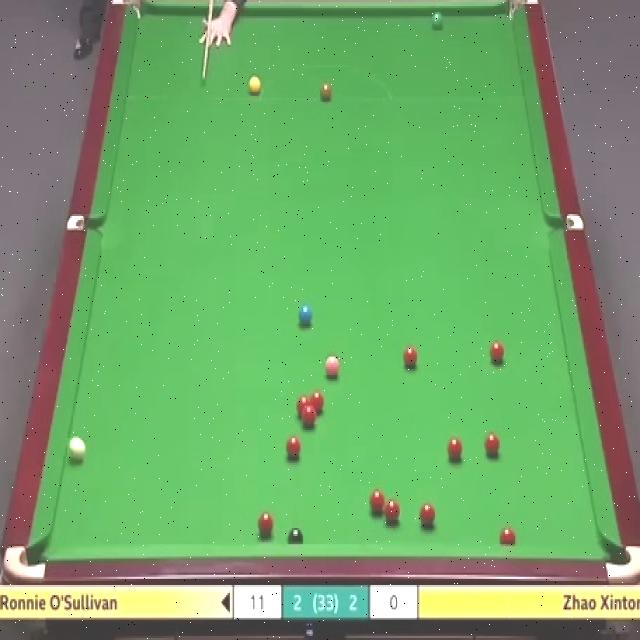black-ball: (288, 524, 306, 546)
blue-ball: (296, 304, 312, 329)
brown-ball: (318, 80, 332, 103)
green-ball: (429, 11, 445, 31)
pink-ball: (324, 351, 340, 379)
red-ball: (384, 497, 401, 528), (402, 343, 420, 372), (418, 502, 435, 530), (369, 488, 385, 515), (484, 432, 500, 458), (287, 434, 303, 460), (489, 339, 505, 365), (257, 511, 273, 537), (447, 437, 462, 462), (310, 391, 325, 416), (500, 525, 516, 546), (302, 408, 316, 428), (297, 395, 310, 416)
white-ball: (67, 435, 86, 462)
yellow-ball: (246, 74, 261, 95)
